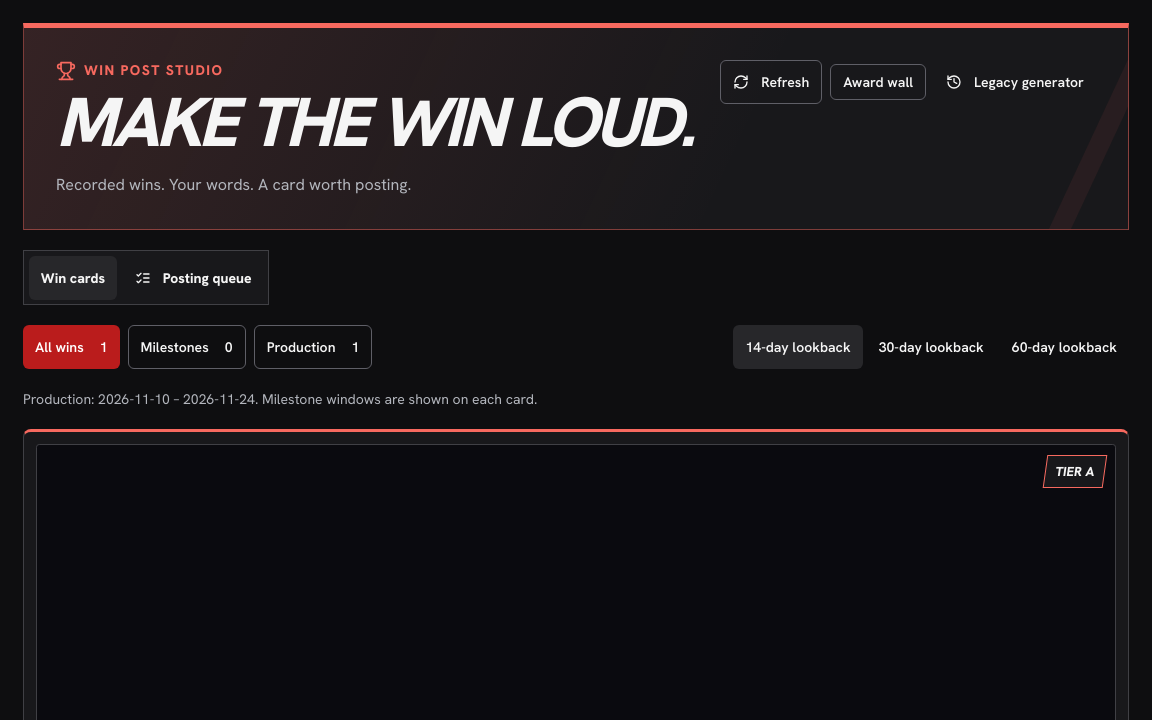
Win Post Studio › uses the error state for an unverified posting queue: null
Click the button "Posting queue": (193, 278) [123,256,264,300]
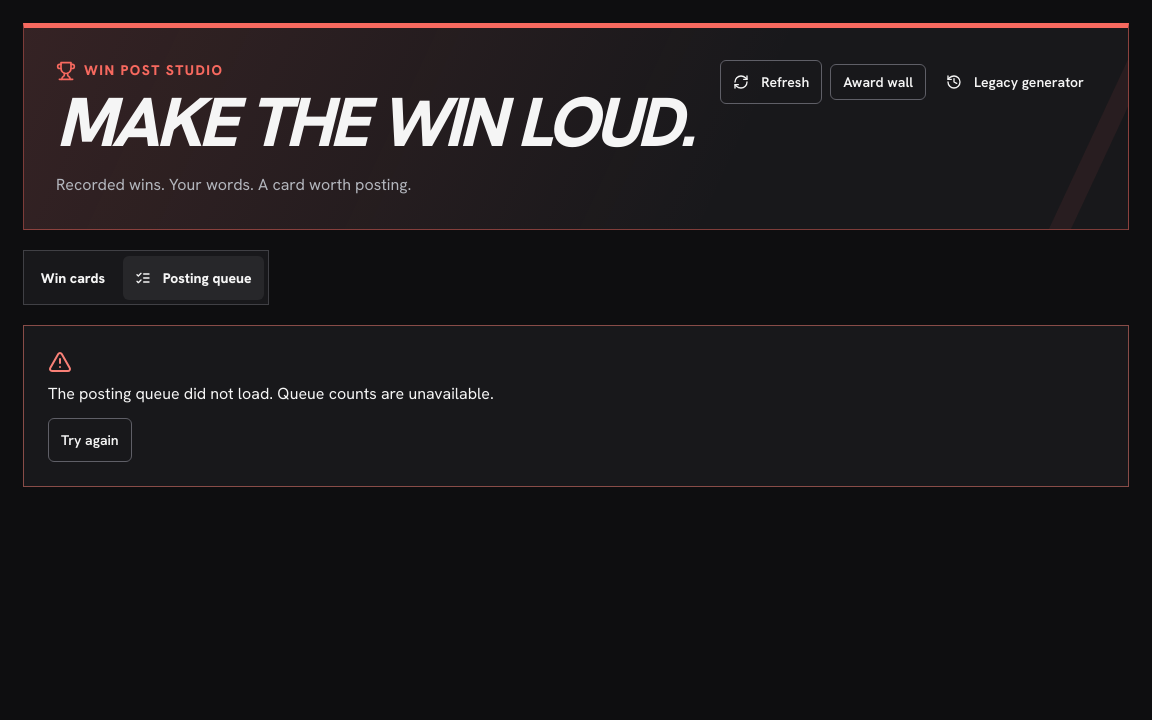
Now the message shows "Queue counts are unavailable", box [48,383,494,404]
